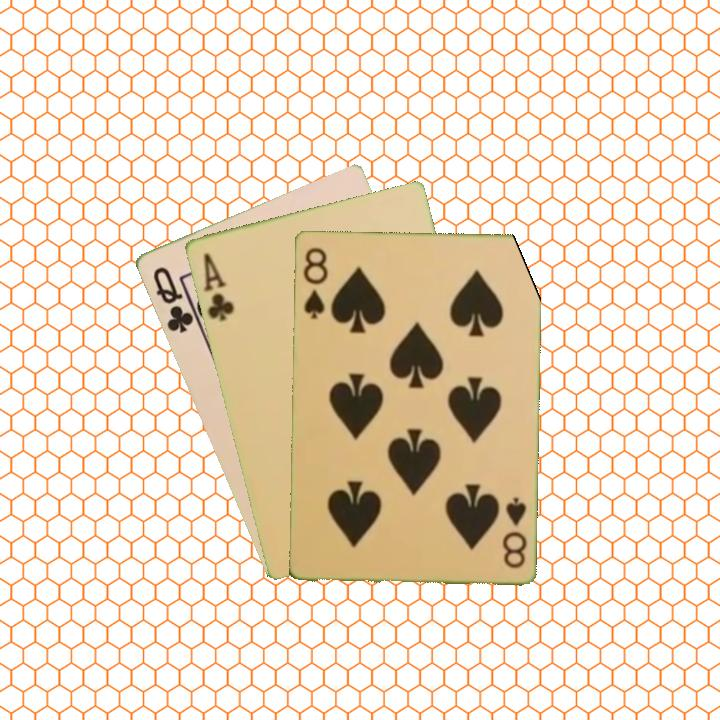8s: (299, 243, 330, 321), (499, 493, 530, 571)
Ac: (199, 249, 237, 324)
Qc: (148, 263, 201, 337)
